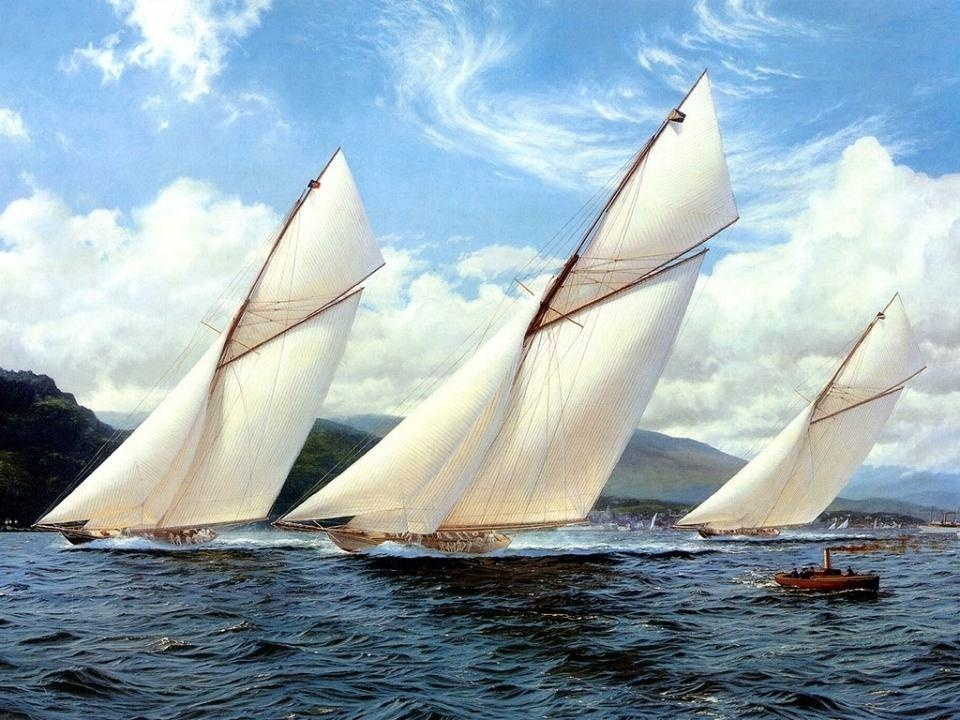fanchuan: (274, 68, 788, 552), (27, 142, 388, 565), (672, 292, 955, 544)
